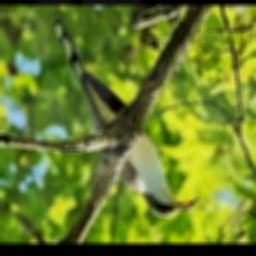Cuckoo: (53, 19, 195, 217)
